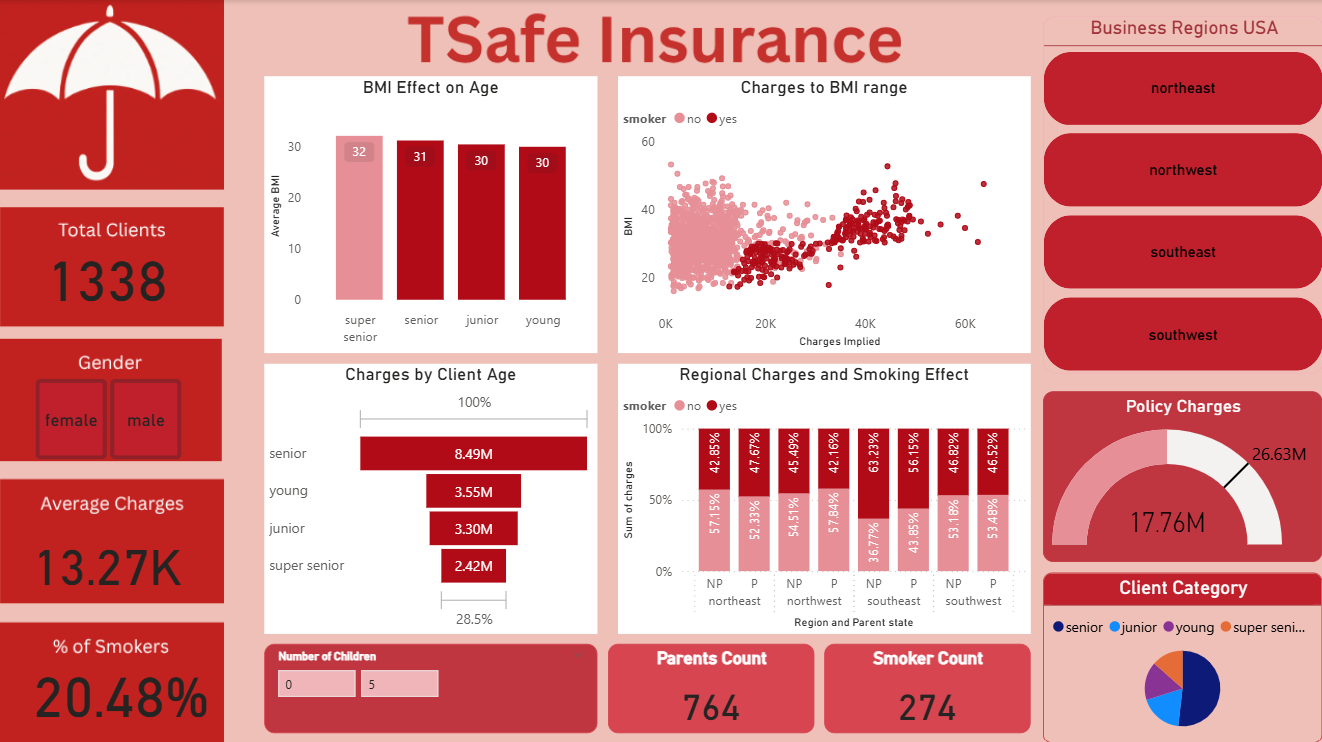

Layout of this report page (visuals, bound fields, positions):
{"tool":"powerbi","page":{"name":"Page 1","canvas":[1280,720],"ordinal":0},"visuals":[{"type":"card","fields":{"Values":["CountNonNull(insure_lvl1_transformed.ID)"]},"box":[20.2,243.8,170.2,63.5],"z":0},{"type":"advancedSlicerVisual","fields":{"Values":["insure_lvl1_transformed.sex"]},"box":[31.7,360.7,225.1,88],"z":1000},{"type":"card","fields":{"Values":["Avg(insure_lvl1_transformed.charges)"]},"box":[20.2,506.4,170.2,70.7],"z":2000},{"type":"card","fields":{"Values":["insure_lvl1_transformed.smoker_per"]},"box":[19.9,645.1,197.5,63.4],"z":3000},{"type":"advancedSlicerVisual","title":"Business Regions USA","fields":{"Values":["insure_lvl1_transformed.region"]},"box":[1008.5,15.9,271.2,344.8],"z":4000},{"type":"pieChart","title":"Client Category","fields":{"Category":["insure_lvl1_transformed.age_cat"],"Y":["Sum(insure_lvl1_transformed.age)"]},"box":[1009,552,269.8,165.9],"z":5000},{"type":"clusteredColumnChart","title":"BMI Effect on Age","fields":{"Category":["insure_lvl1_transformed.age_cat"],"Y":["Avg(insure_lvl1_transformed.bmi)"]},"box":[256.8,73.6,321.7,266.9],"z":6000},{"type":"gauge","title":"Policy Charges","fields":{"Y":["Sum(insure_lvl1_transformed.charges)"],"TargetValue":["insure_lvl1_transformed.target_charge"]},"box":[1008.5,378,269.8,164.5],"z":7000},{"type":"scatterChart","title":"Charges to BMI range","fields":{"Y":["insure_lvl1_transformed.bmi"],"X":["insure_lvl1_transformed.charges"],"Series":["insure_lvl1_transformed.smoker"]},"box":[598.7,73.6,398.2,266.9],"z":8000},{"type":"hundredPercentStackedColumnChart","title":"Regional Charges and Smoking Effect","fields":{"Category":["insure_lvl1_transformed.region","insure_lvl1_transformed.is_parent_txt"],"Y":["Sum(insure_lvl1_transformed.charges)"],"Series":["insure_lvl1_transformed.smoker"]},"box":[598.7,350.6,398.2,261.1],"z":9000},{"type":"slicer","fields":{"Values":["insure_lvl1_transformed.children"]},"box":[256.8,621.8,321.7,86.6],"z":10000},{"type":"funnel","title":"Charges by Client Age","fields":{"Category":["insure_lvl1_transformed.age_cat","insure_lvl1_transformed.children"],"Y":["Sum(insure_lvl1_transformed.charges)"]},"box":[256.8,350.6,321.7,261.1],"z":11000},{"type":"cardVisual","title":"Parents Count","fields":{"Data":["insure_lvl1_transformed.Parent_Count"]},"box":[588.6,621.8,199.1,86.6],"z":12000},{"type":"cardVisual","title":"Smoker Count","fields":{"Data":["insure_lvl1_transformed.Smoker_Count"]},"box":[797.8,621.8,199.1,86.6],"z":13000}]}

Visuals, with their boxes in screenshot pixels (x1, y1, x2, y2), scaled from the page's 1280x720 canvas onto the 1322x742 screenshot:
card - CountNonNull(insure_lvl1_transformed.ID): BBox(21, 251, 197, 317)
advancedSlicerVisual - insure_lvl1_transformed.sex: BBox(33, 372, 265, 462)
card - Avg(insure_lvl1_transformed.charges): BBox(21, 522, 197, 595)
card - insure_lvl1_transformed.smoker_per: BBox(21, 665, 225, 730)
"Business Regions USA" advancedSlicerVisual: BBox(1042, 16, 1321, 372)
"Client Category" pieChart: BBox(1042, 569, 1321, 740)
"BMI Effect on Age" clusteredColumnChart: BBox(265, 76, 597, 351)
"Policy Charges" gauge: BBox(1042, 390, 1320, 559)
"Charges to BMI range" scatterChart: BBox(618, 76, 1030, 351)
"Regional Charges and Smoking Effect" hundredPercentStackedColumnChart: BBox(618, 361, 1030, 630)
slicer - insure_lvl1_transformed.children: BBox(265, 641, 597, 730)
"Charges by Client Age" funnel: BBox(265, 361, 597, 630)
"Parents Count" cardVisual: BBox(608, 641, 814, 730)
"Smoker Count" cardVisual: BBox(824, 641, 1030, 730)
